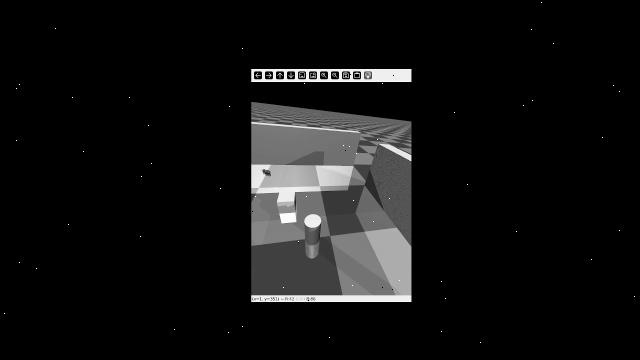cilindro: (301, 211, 326, 248)
cuadrado: (276, 190, 298, 214)
esfera: (264, 169, 271, 175)
